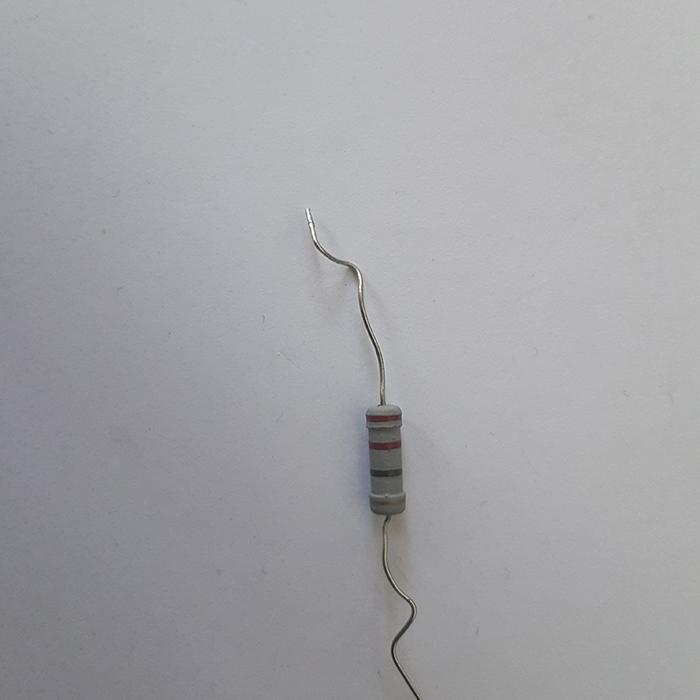resistor: (364, 400, 407, 517)
